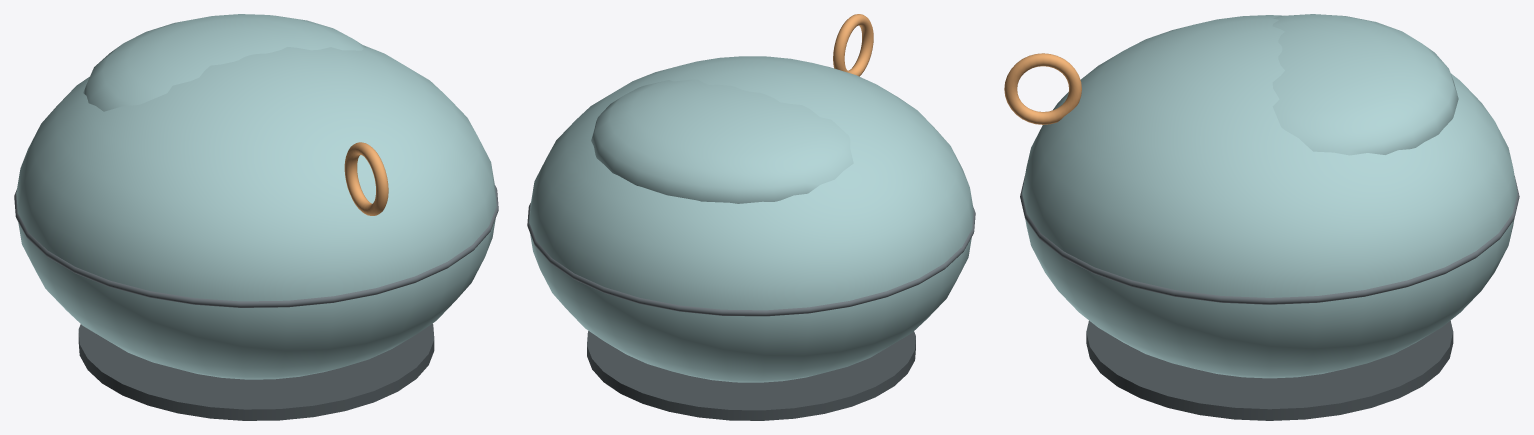
The model's file is bean_bag.glb.
The picture shows the model from 3 angles, left to right: view 1: azimuth 30°, elevation 25°; view 2: azimuth 150°, elevation 25°; view 3: azimuth 270°, elevation 25°; orthographic projection. The views are drawn at different scales.
Parts seen in each view (by area): view 1: bag_teal_soft, base_black_rubber, seat_dimple_teal_soft, seam_graphite, loop_orange; view 2: bag_teal_soft, seat_dimple_teal_soft, base_black_rubber, seam_graphite, loop_orange; view 3: bag_teal_soft, seat_dimple_teal_soft, base_black_rubber, seam_graphite, loop_orange.
Part boxes in pixels (x1=…): bag_teal_soft: x1=16, y1=45, x2=496, y2=379; base_black_rubber: x1=78, y1=323, x2=434, y2=420; seat_dimple_teal_soft: x1=83, y1=14, x2=366, y2=111; seam_graphite: x1=14, y1=185, x2=498, y2=307; loop_orange: x1=344, y1=142, x2=388, y2=215; bag_teal_soft: x1=529, y1=56, x2=973, y2=382; seat_dimple_teal_soft: x1=591, y1=79, x2=853, y2=203; base_black_rubber: x1=587, y1=331, x2=915, y2=420; seam_graphite: x1=527, y1=203, x2=975, y2=316; loop_orange: x1=833, y1=14, x2=873, y2=76; bag_teal_soft: x1=1022, y1=15, x2=1517, y2=378; seat_dimple_teal_soft: x1=1272, y1=14, x2=1458, y2=155; base_black_rubber: x1=1086, y1=320, x2=1453, y2=420; seam_graphite: x1=1020, y1=176, x2=1519, y2=304; loop_orange: x1=1004, y1=53, x2=1081, y2=124.
Bounding box in the file's own units: 0.926 × 0.6086 × 0.955.
